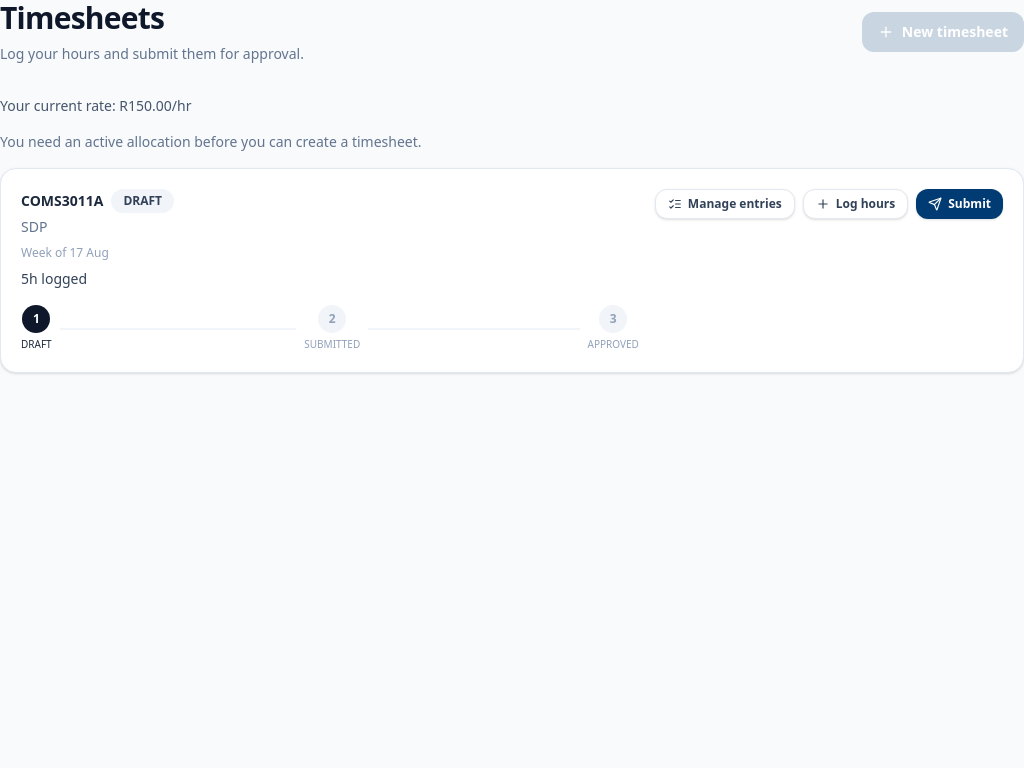
Test: TimesheetsPage — review / submit / approve wiring › submits a draft through the confirmation dialog
This screenshot has width=1024, height=768.
Click the button "Submit" at [960, 204], box [916, 189, 1003, 219]
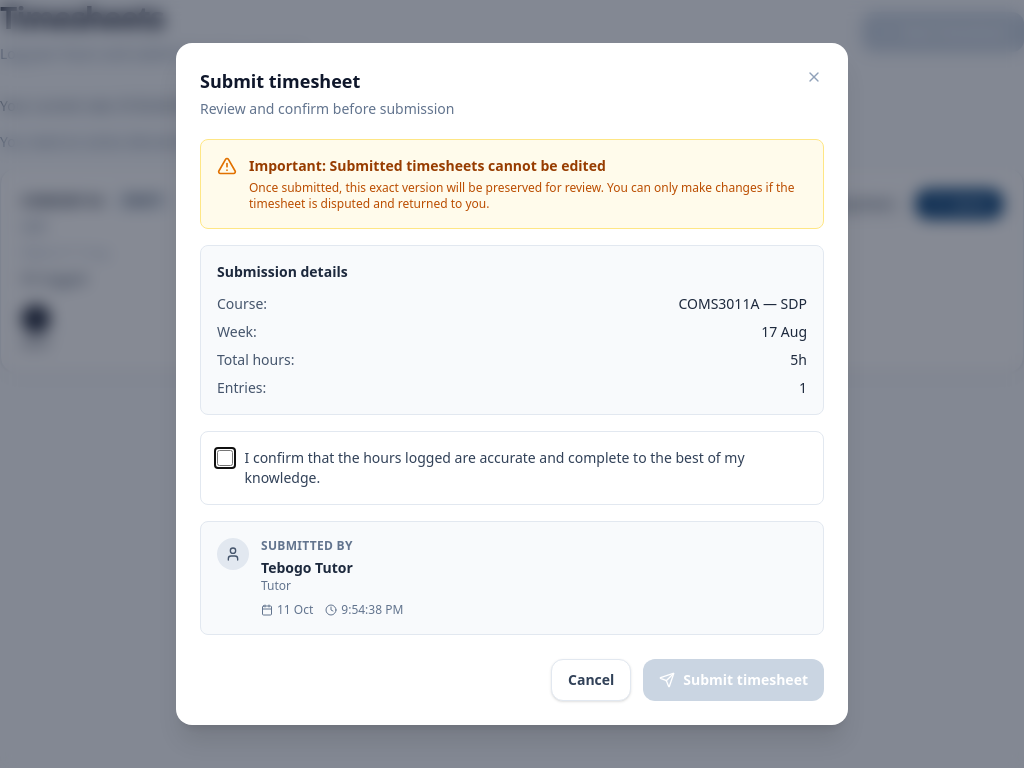
Click the checkbox at [225, 458], box [217, 450, 232, 466]
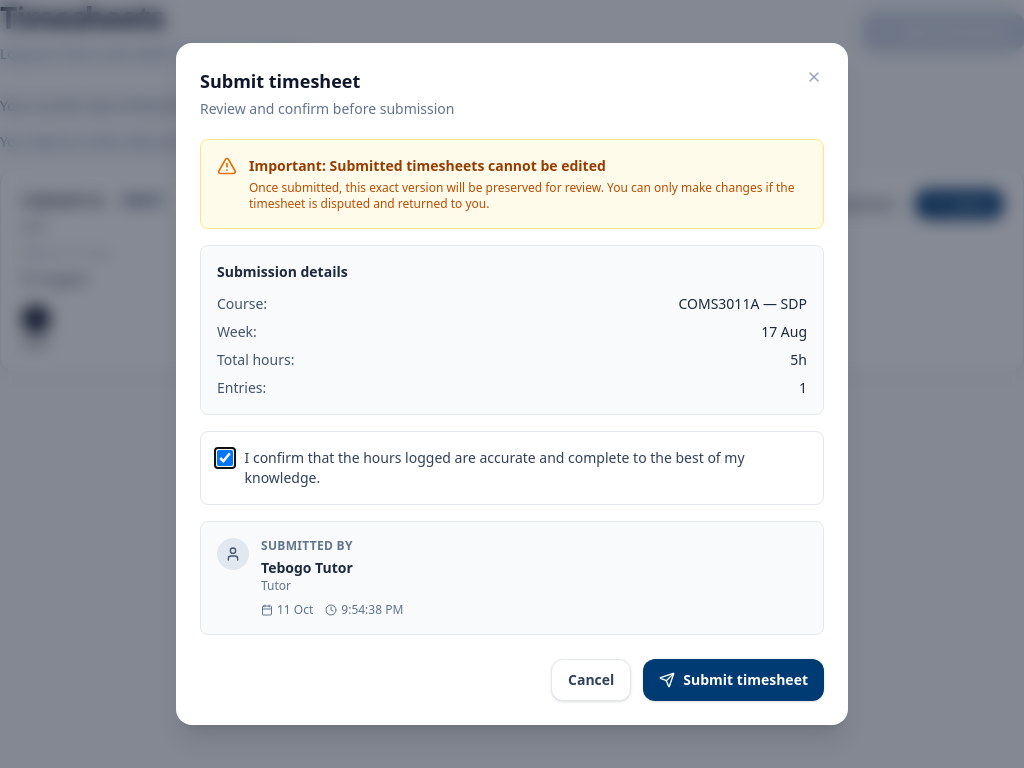
Click the button "Submit timesheet" at [734, 680], box [643, 659, 824, 701]
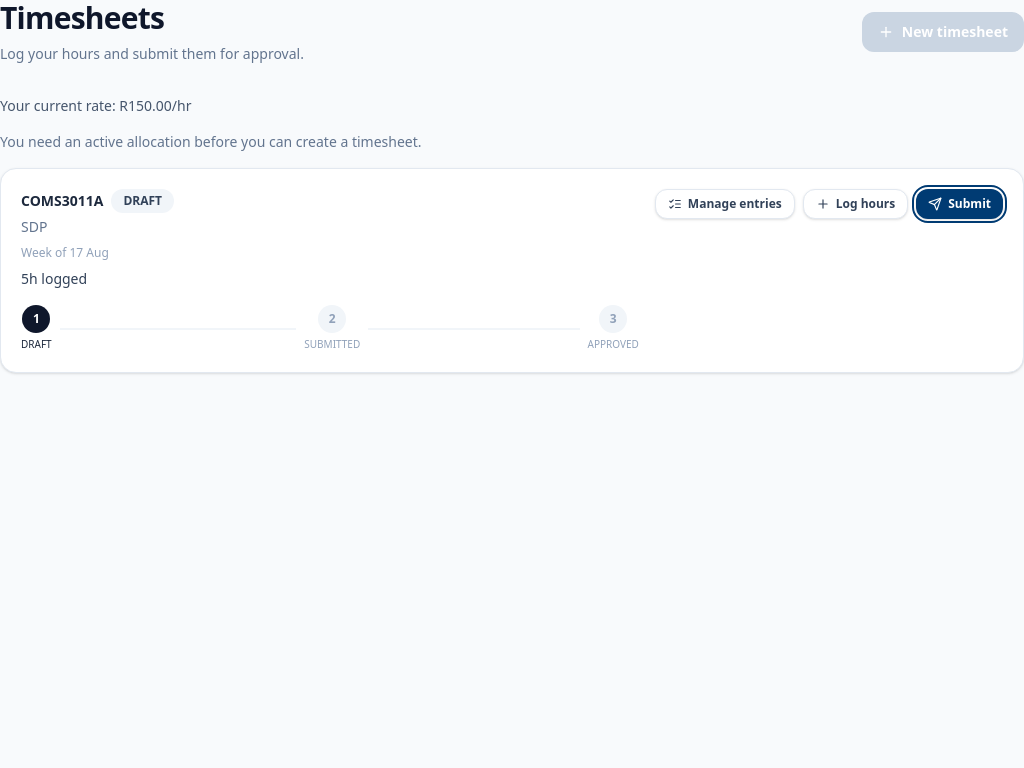
Now the dialog is gone
